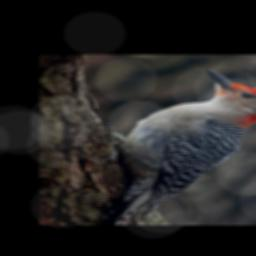Woodpecker: (97, 69, 256, 225)
